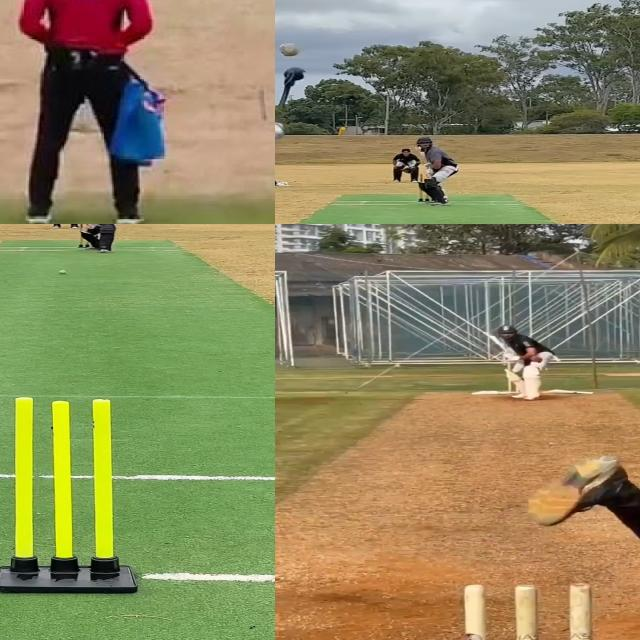Cricket ball: (275, 40, 305, 59), (529, 355, 543, 363), (57, 268, 69, 276)
Stumps: (0, 393, 137, 593), (457, 579, 600, 640)
